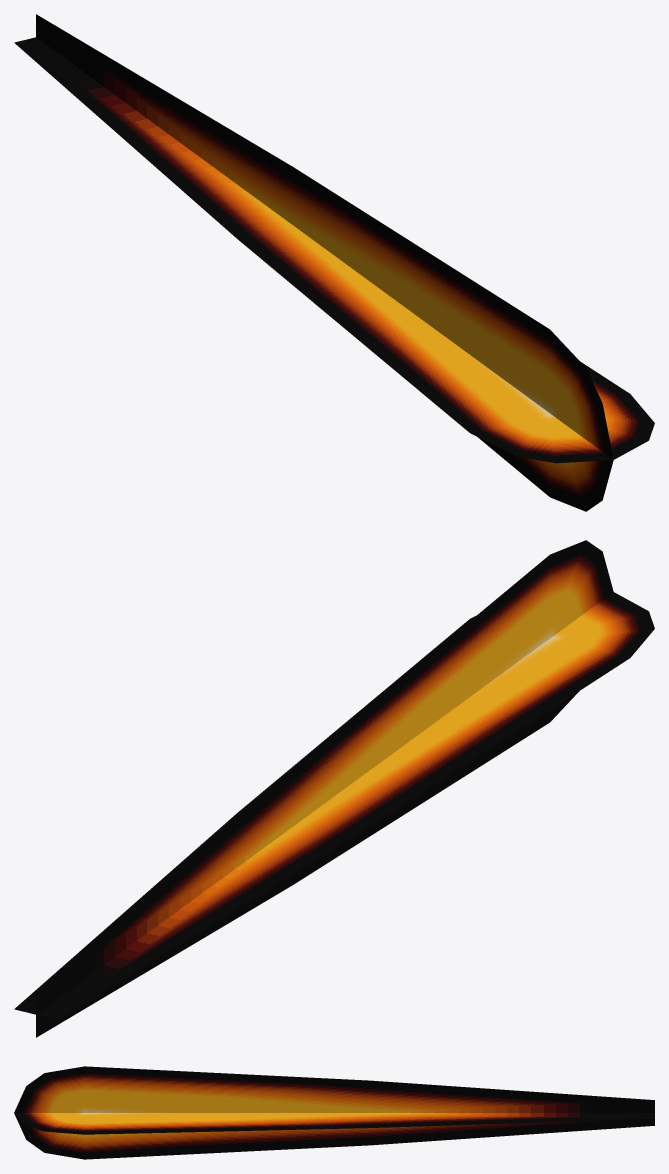
The model's file is Bullet_tracer_planes.fbx.
The picture shows the model from 3 angles, top to bottom: view 1: azimuth 30°, elevation 25°; view 2: azimuth 150°, elevation 25°; view 3: azimuth 270°, elevation 25°; orthographic projection. The views are drawn at different scales.
Parts seen in each view (by area): view 1: tracer; view 2: tracer; view 3: tracer.
Part boxes in pixels (x1,y1,x2,y2): tracer: (14,14,654,511); tracer: (14,540,654,1037); tracer: (14,1066,654,1159).
Bounding box in the file's own units: 3.99 × 3.99 × 24.87.
1 material, 1 textured.
